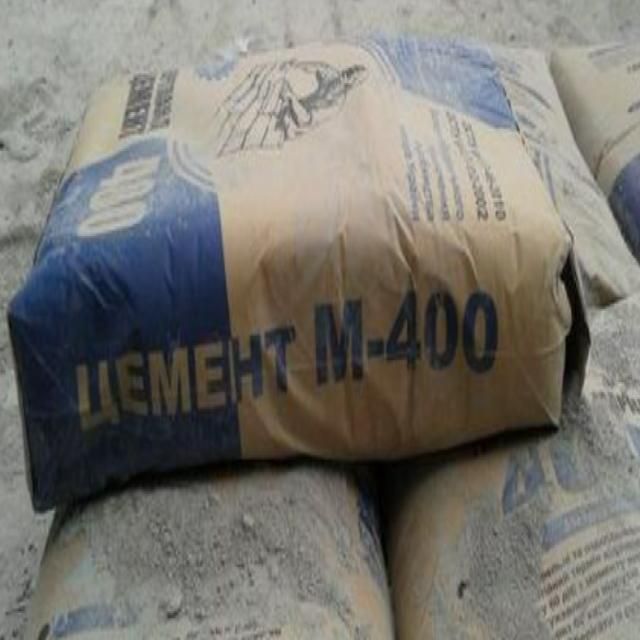KantongSemen: (11, 38, 586, 499)
